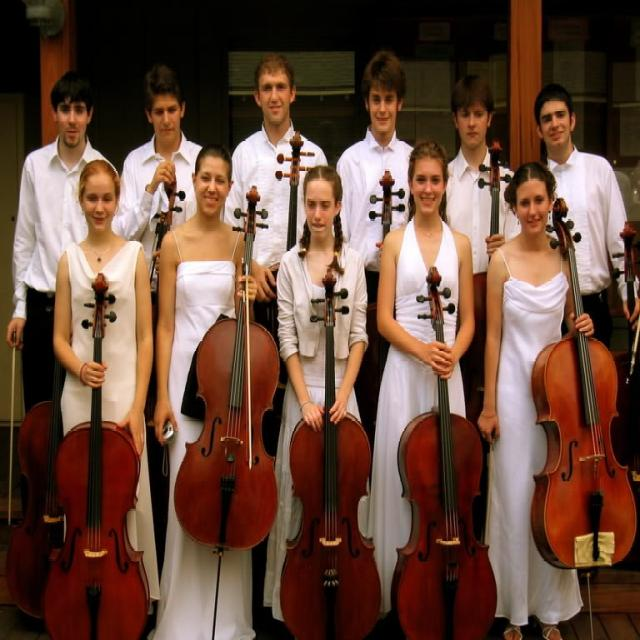cello: (525, 198, 640, 578), (390, 258, 501, 640), (39, 266, 150, 640), (174, 184, 283, 555), (278, 264, 384, 640), (6, 392, 64, 620), (140, 172, 184, 280), (470, 128, 507, 253), (608, 209, 640, 322), (360, 161, 406, 238), (271, 129, 301, 247)
